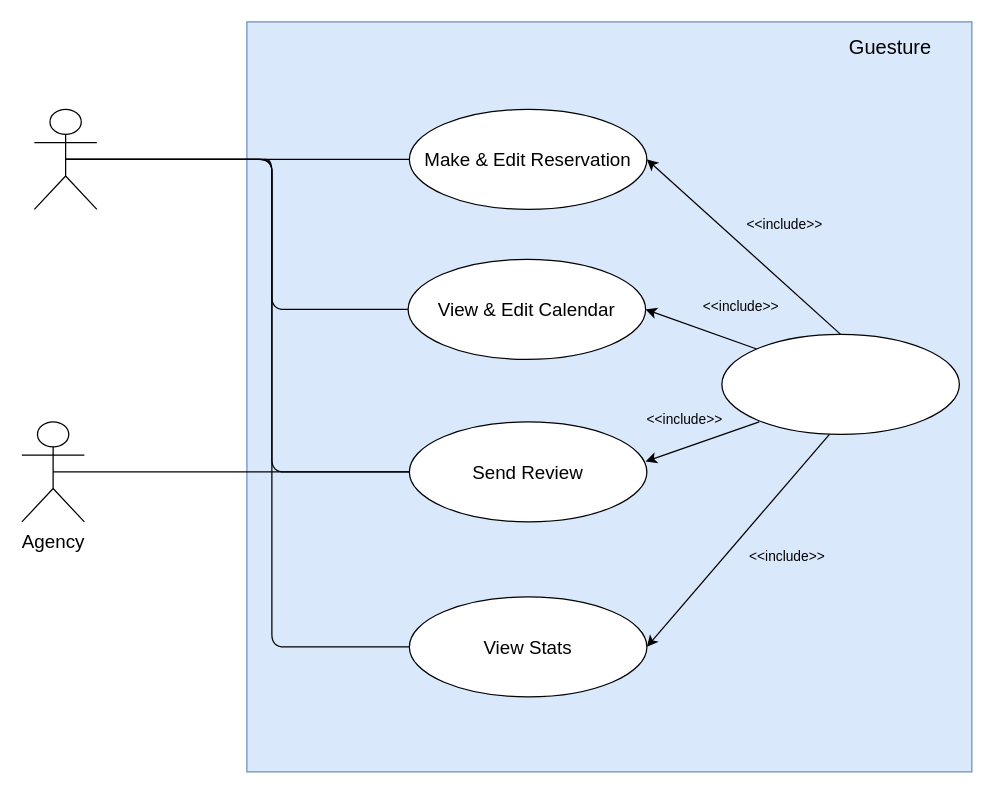
This 994x794 diagram has some shape labels left out. Each missing label, with the box of its shape:
Hotel: (33, 108, 97, 209)
Login / Register: (721, 333, 959, 434)
